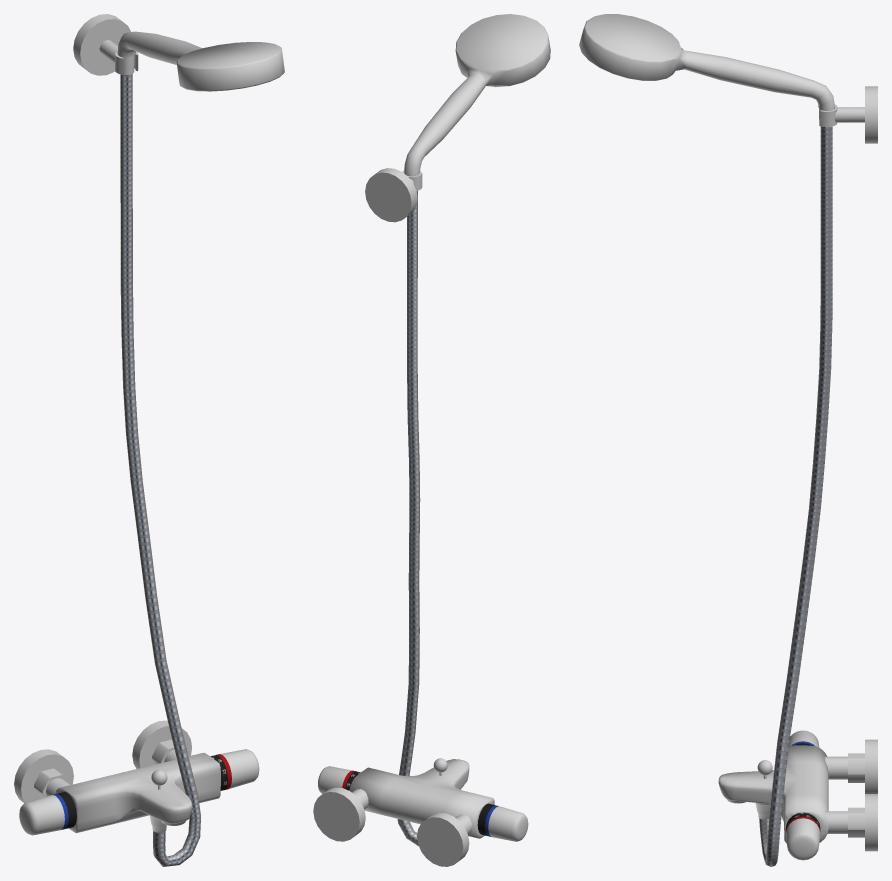
Rendered from sweethome3d-scopia-mixer-tap-for-bath-and-shower.glb.
3 views of the same model, side by side, from view 1: azimuth 30°, elevation 25°; view 2: azimuth 150°, elevation 25°; view 3: azimuth 270°, elevation 25° (orthographic). The views are drawn at different scales.
Parts seen in each view (by area): view 1: Tap, Hose, HoseHandle, PipeConnexions, WallSupport; view 2: Tap, HoseHandle, Hose, PipeConnexions, WallSupport; view 3: Hose, HoseHandle, Tap, PipeConnexions, WallSupport.
Boxes of the visible parts, x1,y1,x2,y2 form: Tap: (19, 749, 259, 835); Hose: (120, 74, 200, 866); HoseHandle: (117, 31, 284, 91); PipeConnexions: (14, 720, 191, 803); WallSupport: (73, 14, 138, 75); Tap: (318, 758, 528, 841); HoseHandle: (404, 14, 550, 176); Hose: (397, 190, 420, 846); PipeConnexions: (313, 787, 472, 866); WallSupport: (365, 168, 422, 222); Hose: (759, 126, 832, 866); HoseHandle: (579, 14, 834, 110); Tap: (718, 730, 828, 860); PipeConnexions: (825, 739, 877, 851); WallSupport: (819, 86, 877, 143).
Size of the model in its own units: 29.02 by 106 by 34.72.
Materials: 11 (3 with a texture image).
